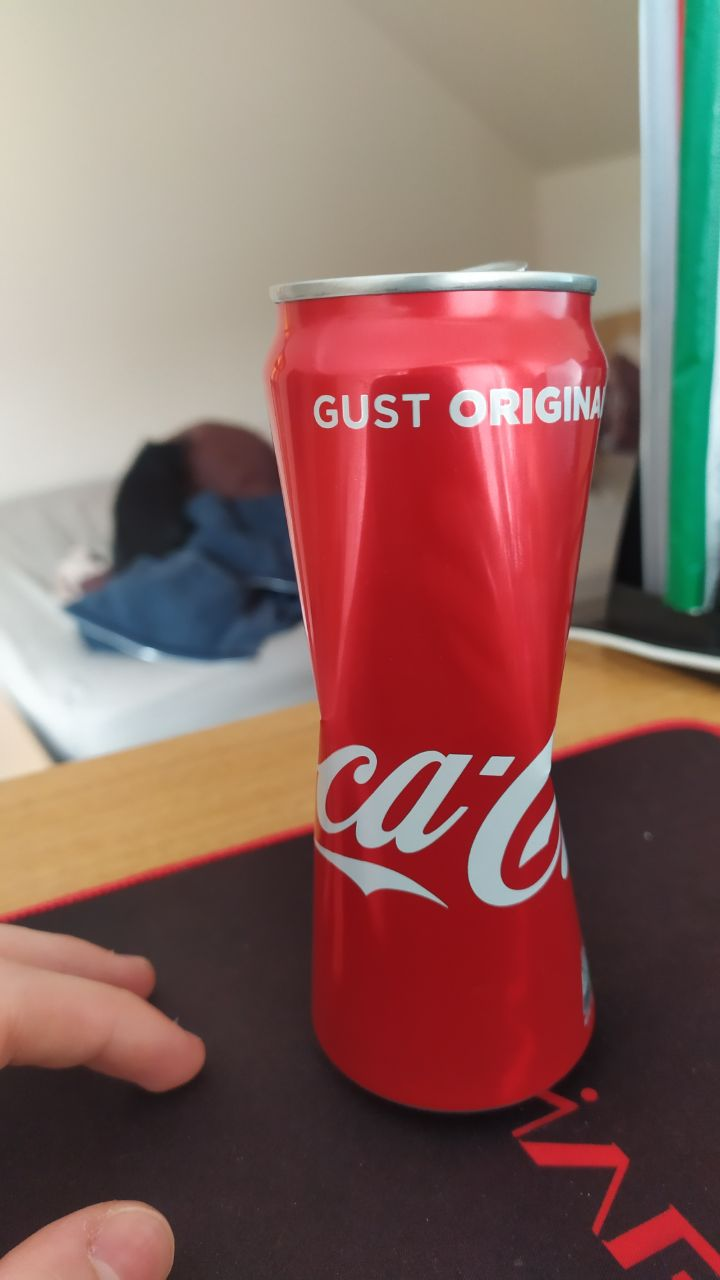Can: (247, 257, 620, 1112)
